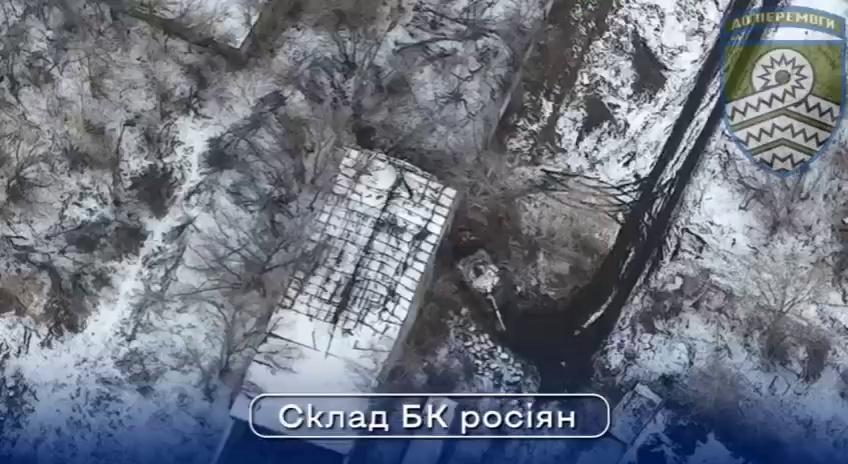vehicle: (456, 246, 518, 314)
